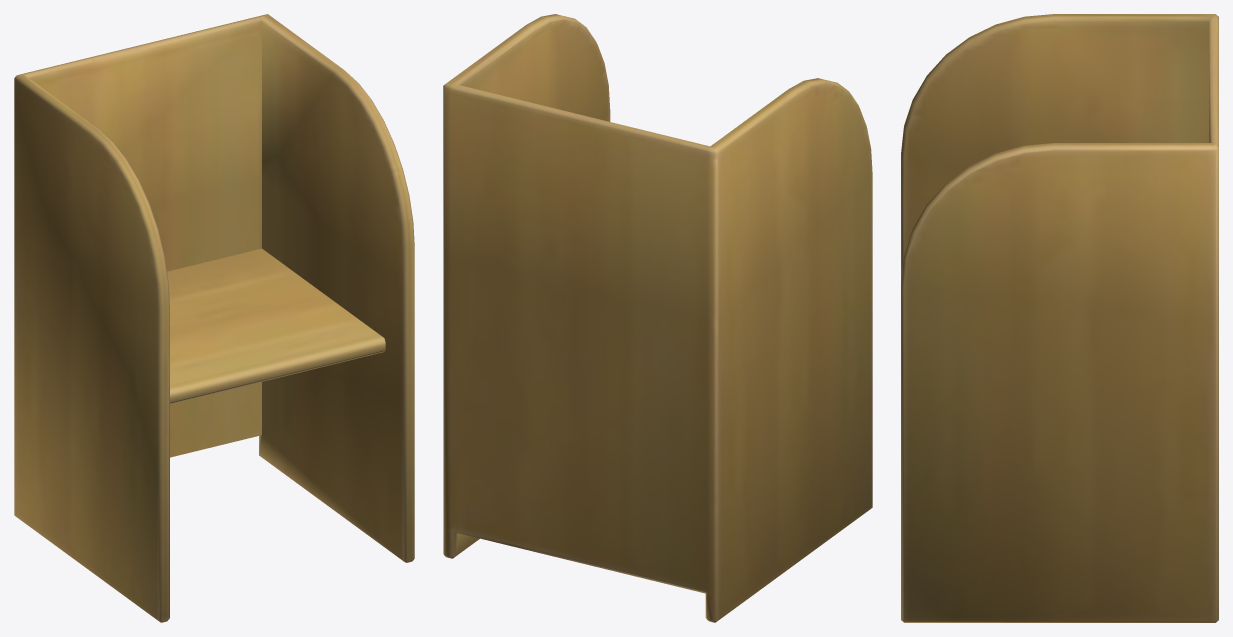
3 renders of one model, left to right at view 1: azimuth 30°, elevation 25°; view 2: azimuth 150°, elevation 25°; view 3: azimuth 270°, elevation 25°, orthographic. The views are drawn at different scales.
Bounding box in the file's own units: 10 × 16.48 × 9.96.
1 material, 1 textured.
